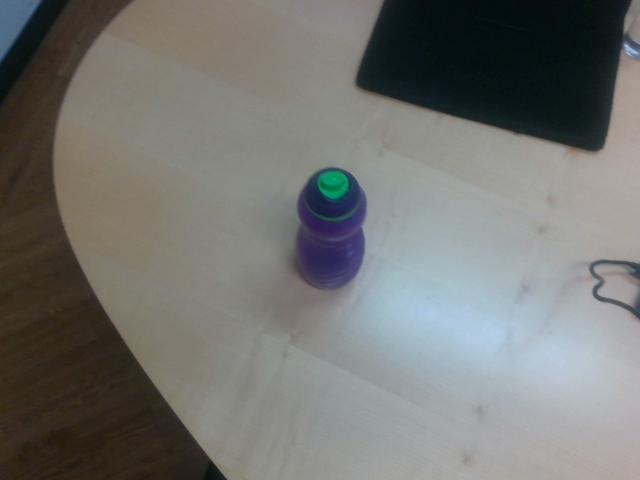bottle: (299, 166, 366, 290)
